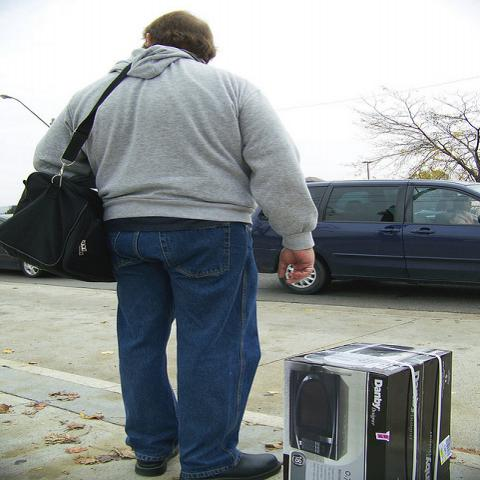car: (249, 181, 479, 299), (0, 213, 41, 277)
